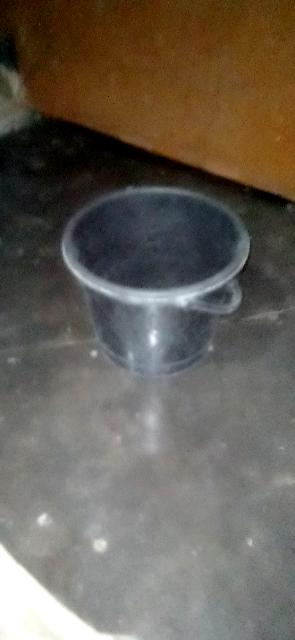hardplastic: (67, 196, 258, 370)
